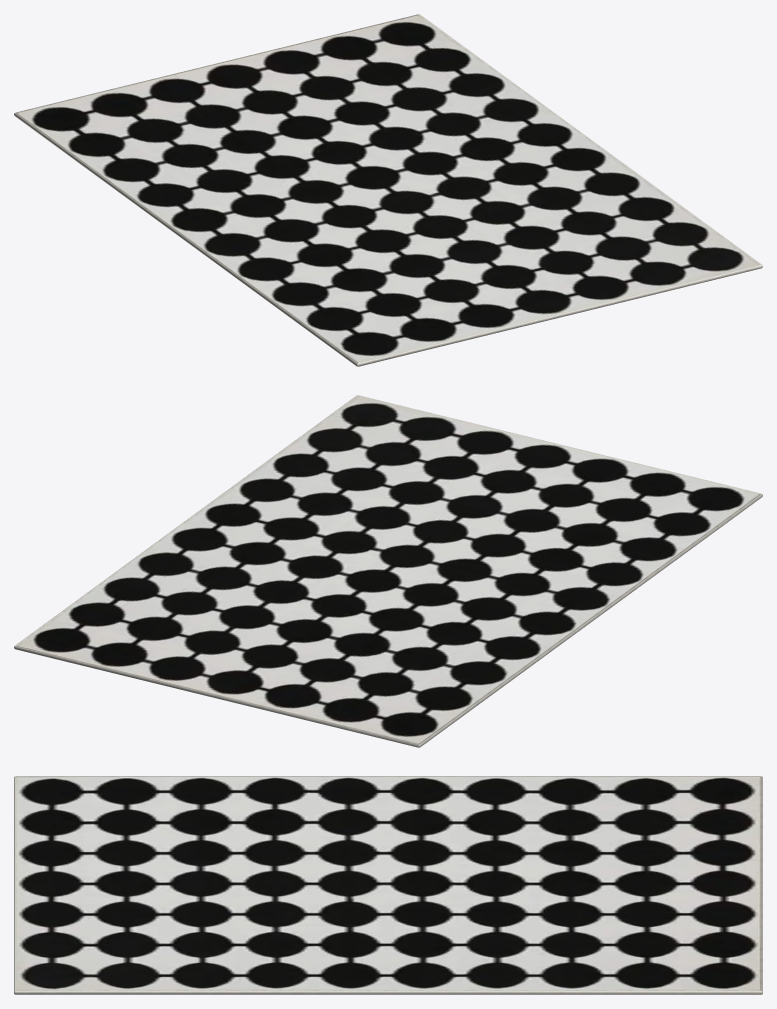
3 views of the same model, one above another, from view 1: azimuth 30°, elevation 25°; view 2: azimuth 150°, elevation 25°; view 3: azimuth 270°, elevation 25° (orthographic). The views are drawn at different scales.
Visible parts, largest first — view 1: 30600939_rug_low_pile:1; view 2: 30600939_rug_low_pile:1; view 3: 30600939_rug_low_pile:1.
Boxes of the visible parts, left/top/right/bottom form: 30600939_rug_low_pile:1: left=14, top=14, right=762, bottom=366; 30600939_rug_low_pile:1: left=14, top=395, right=762, bottom=747; 30600939_rug_low_pile:1: left=14, top=776, right=762, bottom=994.
Bounding box in the file's own units: 1.33 × 0.01 × 1.95.
1 material, 1 textured.
